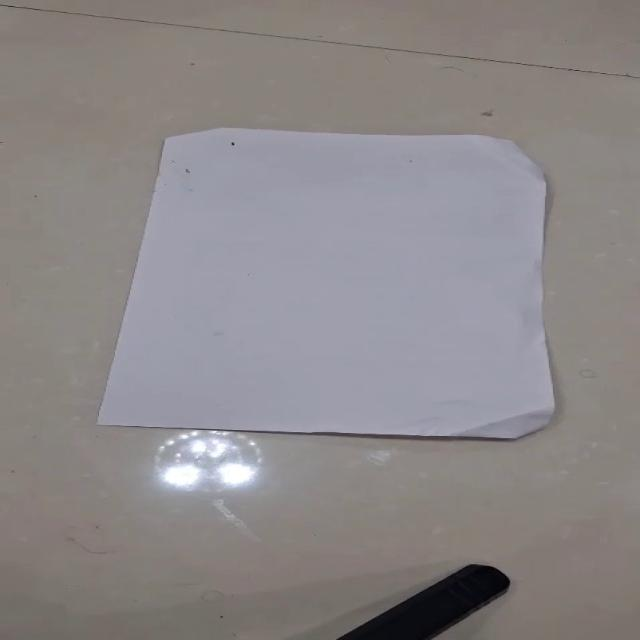paper: (95, 126, 556, 440)
